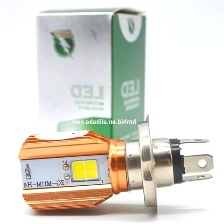carton: (30, 2, 151, 167)
light_bulb: (12, 108, 217, 221)
